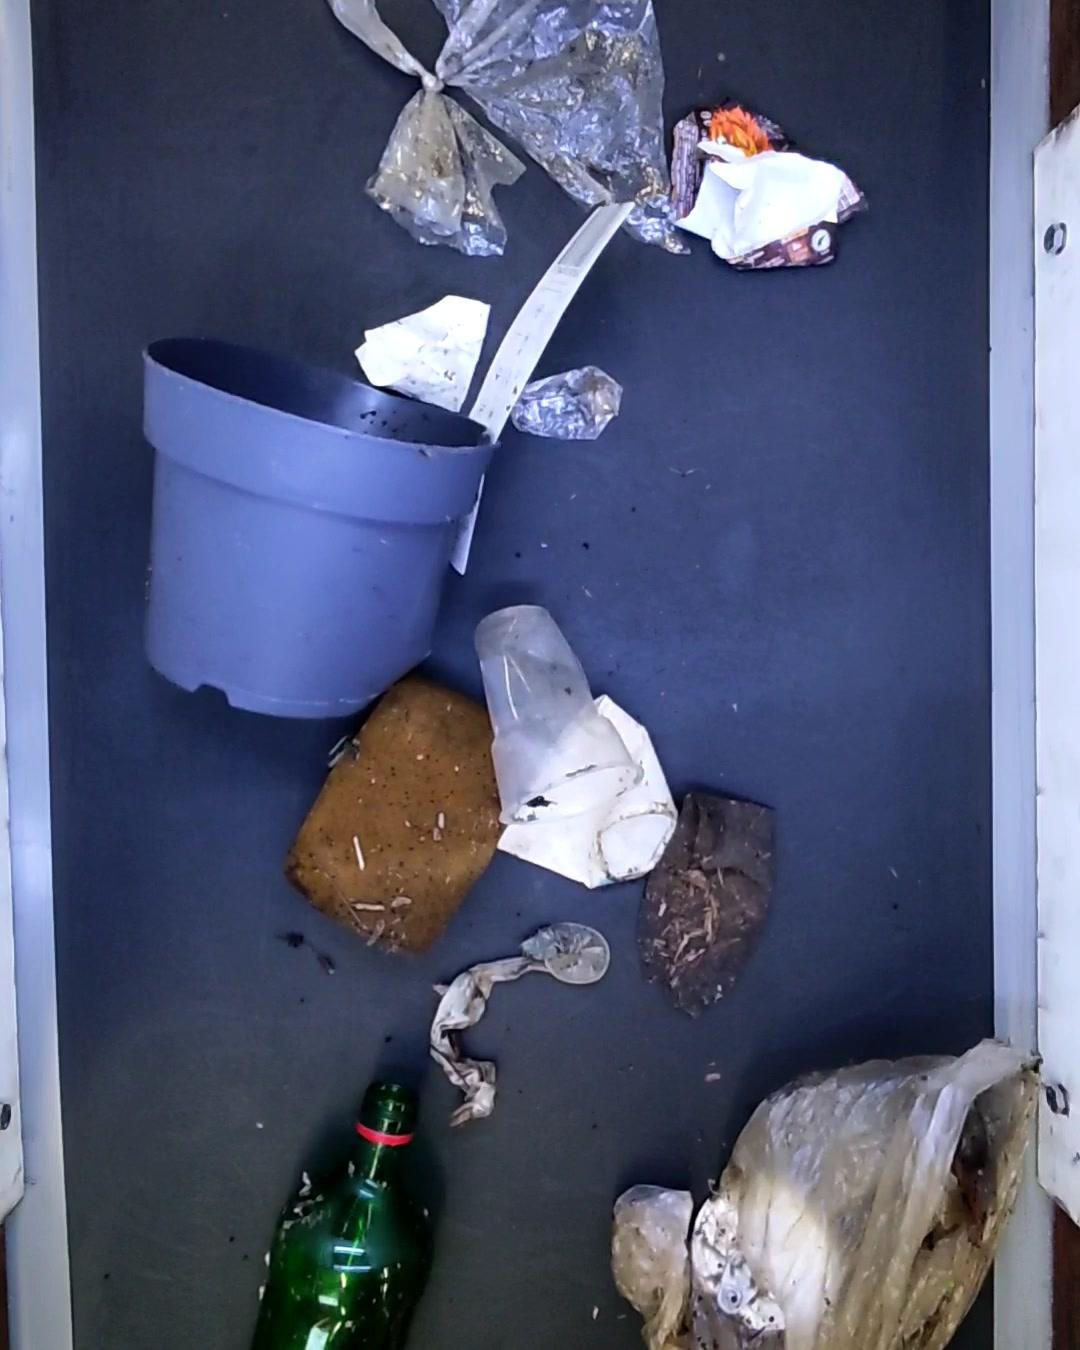Plastic folies of stukken daarvan 2.5- 50 cm: (618, 1041, 1032, 1350), (338, 0, 683, 255), (510, 365, 629, 447)
Snoep snack en chips verpakkingen: (668, 109, 878, 272)
